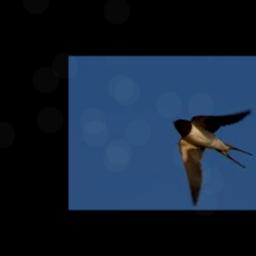Swallow: (173, 109, 253, 207)
